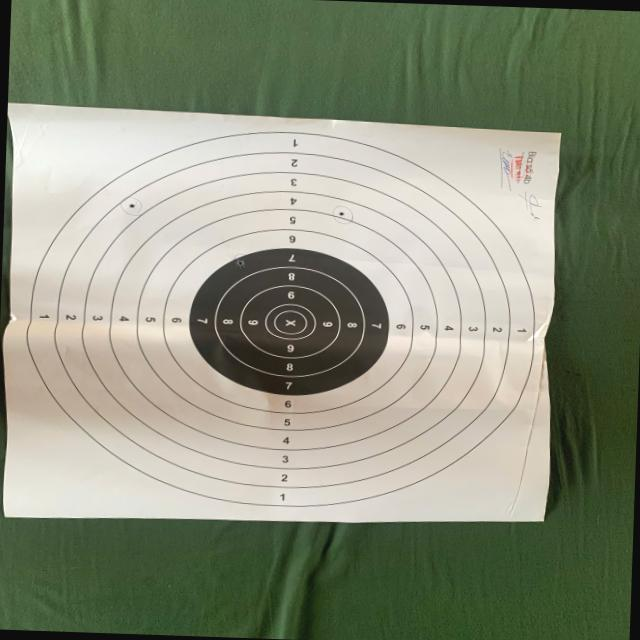bullet: (336, 209, 343, 216), (238, 261, 242, 268), (129, 203, 134, 207)
target: (0, 101, 559, 523)
